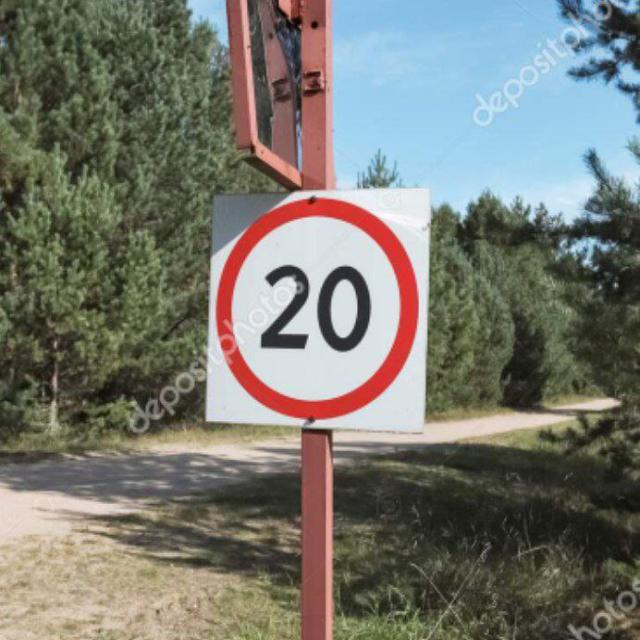speedlimit_20: (202, 199, 424, 421)
